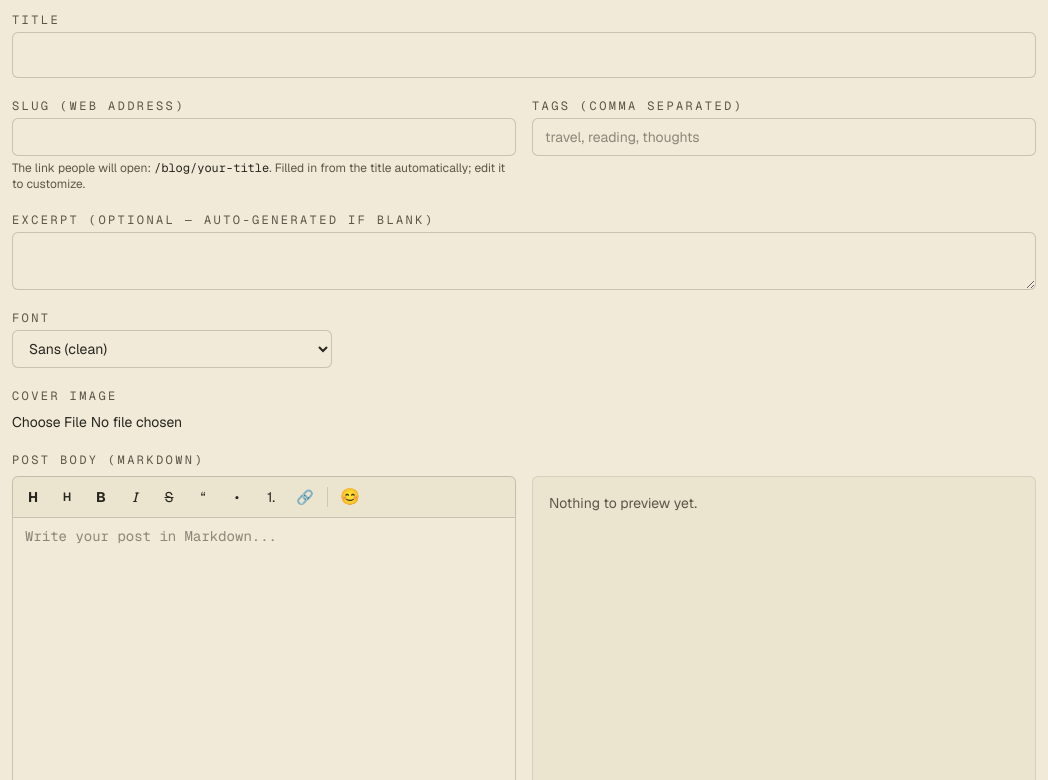
Test: PostEditor › explains the slug by showing the post's web address
Type "Kyoto Diary" into the field labelled "Title".
click(524, 55); type("Kyoto Diary")  # box [12,32,1036,78]
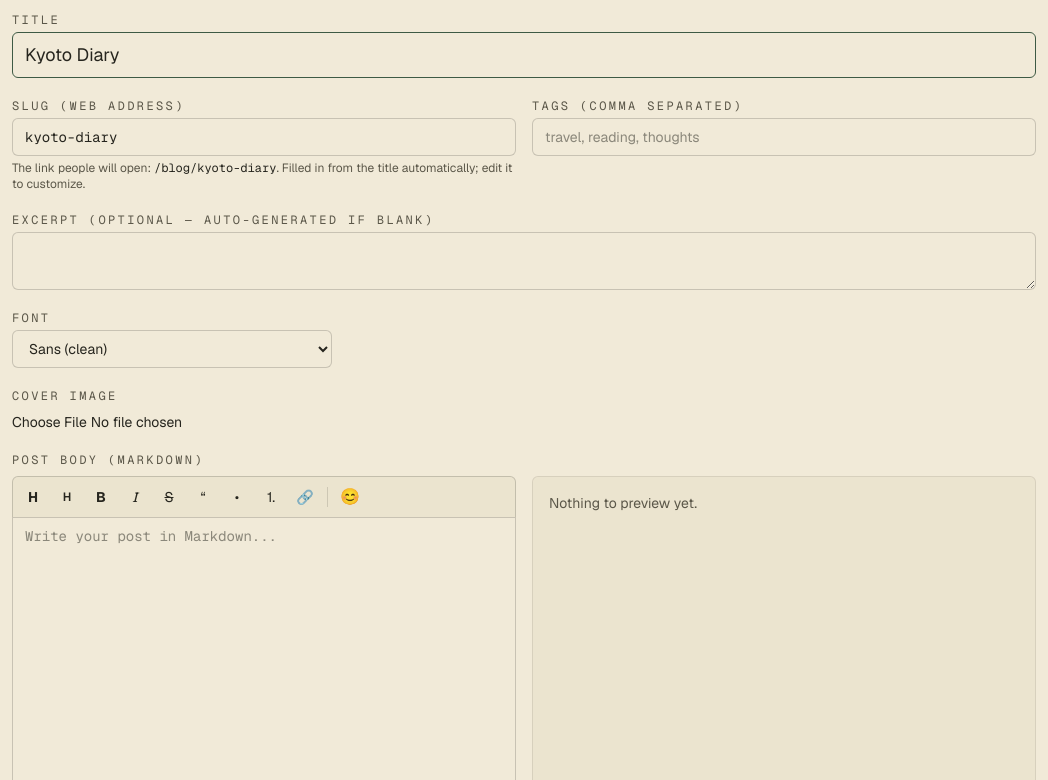
Expected: the text "/blog/kyoto-diary" is shown, [154,160,276,176]
